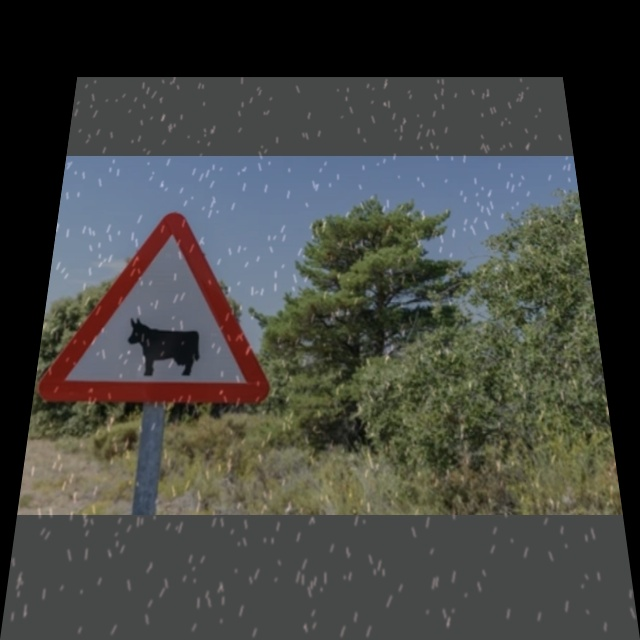Cattle: (65, 220, 263, 404)
